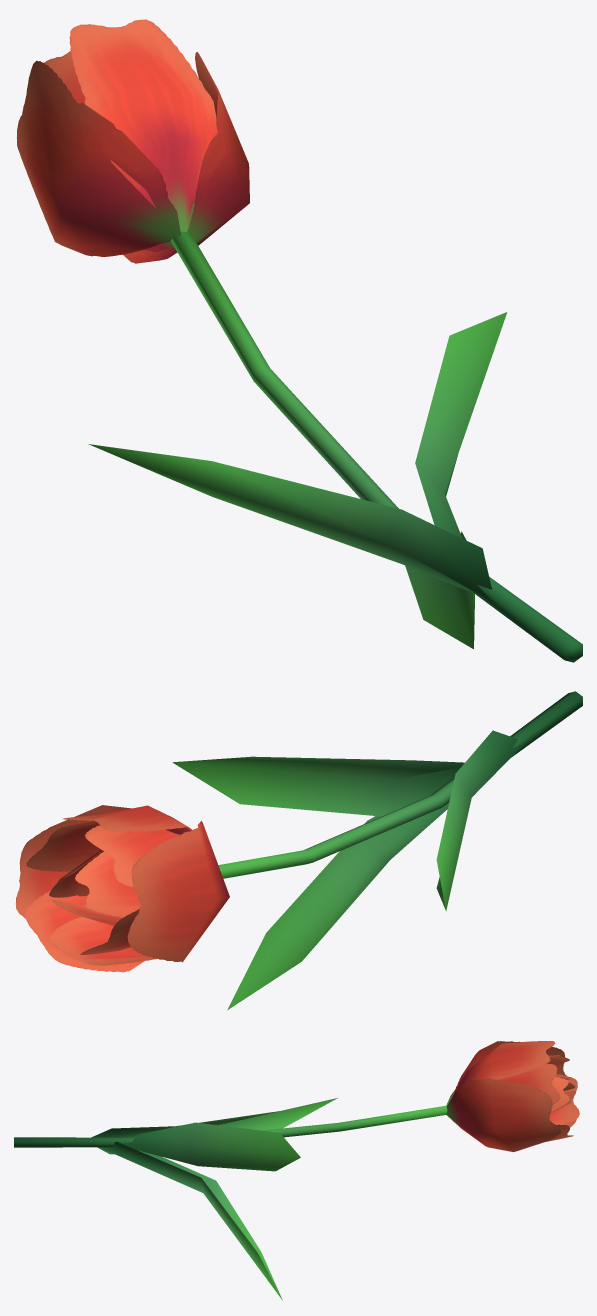
Rendered from SM_Tulip_Red_Open.fbx.
3 views of the same model, one above another, from view 1: azimuth 30°, elevation 25°; view 2: azimuth 150°, elevation 25°; view 3: azimuth 270°, elevation 25° (orthographic). The views are drawn at different scales.
Parts seen in each view (by area): view 1: Tulip_Red_Open; view 2: Tulip_Red_Open; view 3: Tulip_Red_Open.
Part boxes in pixels (<box>): Tulip_Red_Open: <box>16,19,582,662</box>; Tulip_Red_Open: <box>15,691,582,1010</box>; Tulip_Red_Open: <box>14,1041,579,1300</box>.
Bounding box in the file's own units: 79.43 × 90.75 × 205.
